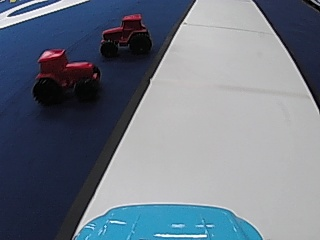tractor: (30, 47, 101, 104), (98, 12, 154, 57)
